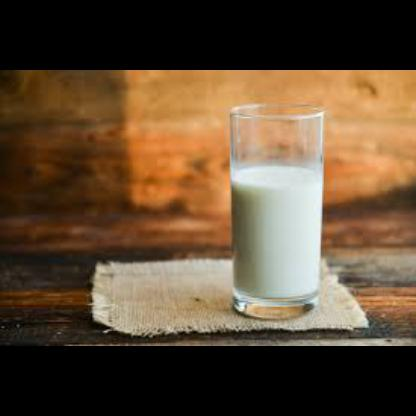milk: (230, 166, 322, 296)
